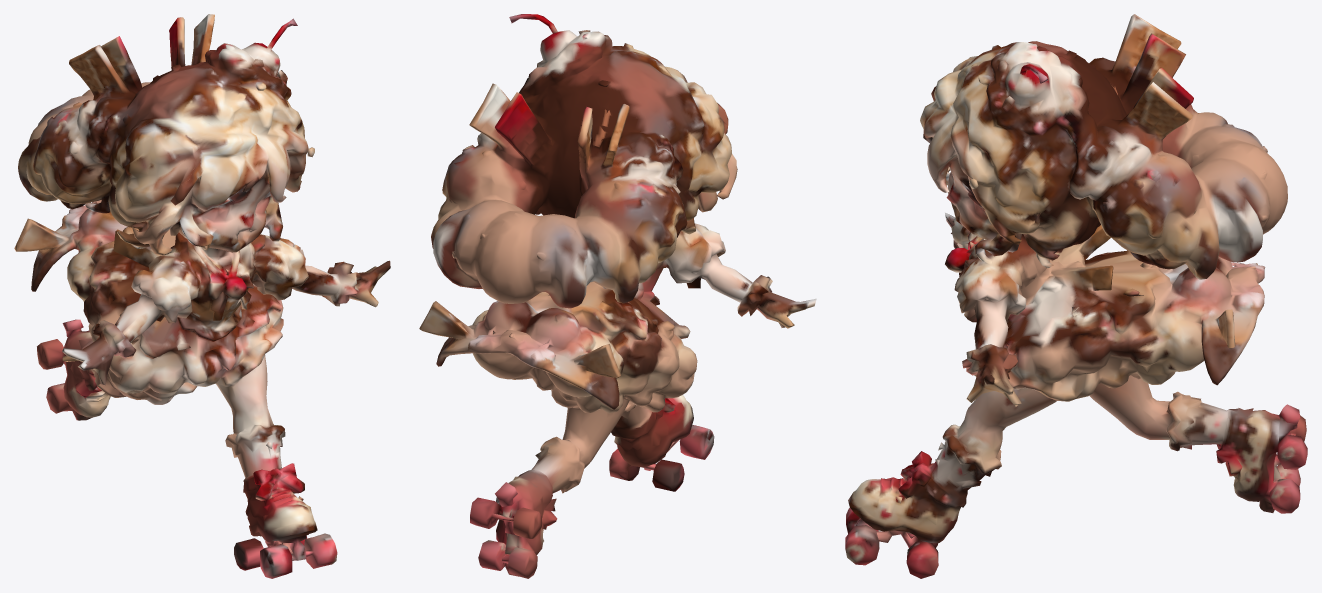
The model's file is dessert_skater_painted.glb.
3 renders of one model, left to right at view 1: azimuth 30°, elevation 25°; view 2: azimuth 150°, elevation 25°; view 3: azimuth 270°, elevation 25°, orthographic. The views are drawn at different scales.
Parts seen in each view (by area): view 1: Body; view 2: Body; view 3: Body.
Part boxes in pixels (left/top/right/bottom): Body: left=14, top=14, right=390, bottom=578; Body: left=419, top=14, right=816, bottom=578; Body: left=845, top=14, right=1307, bottom=578.
Bounding box in the file's own units: 0.7199 × 1 × 0.7909.
Materials: 1 (1 with a texture image).
